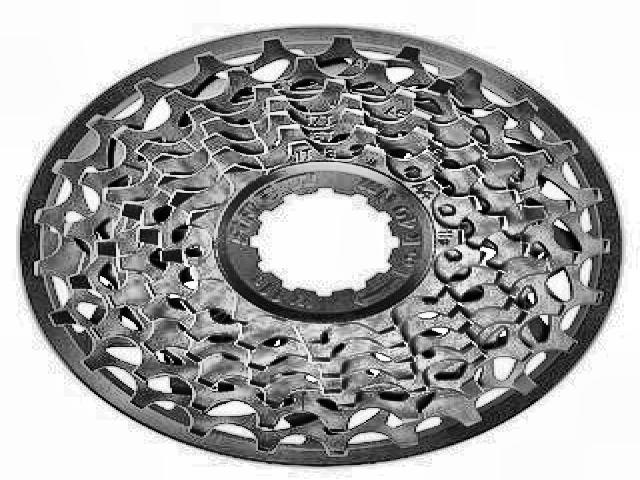cassette: (19, 22, 626, 469)
